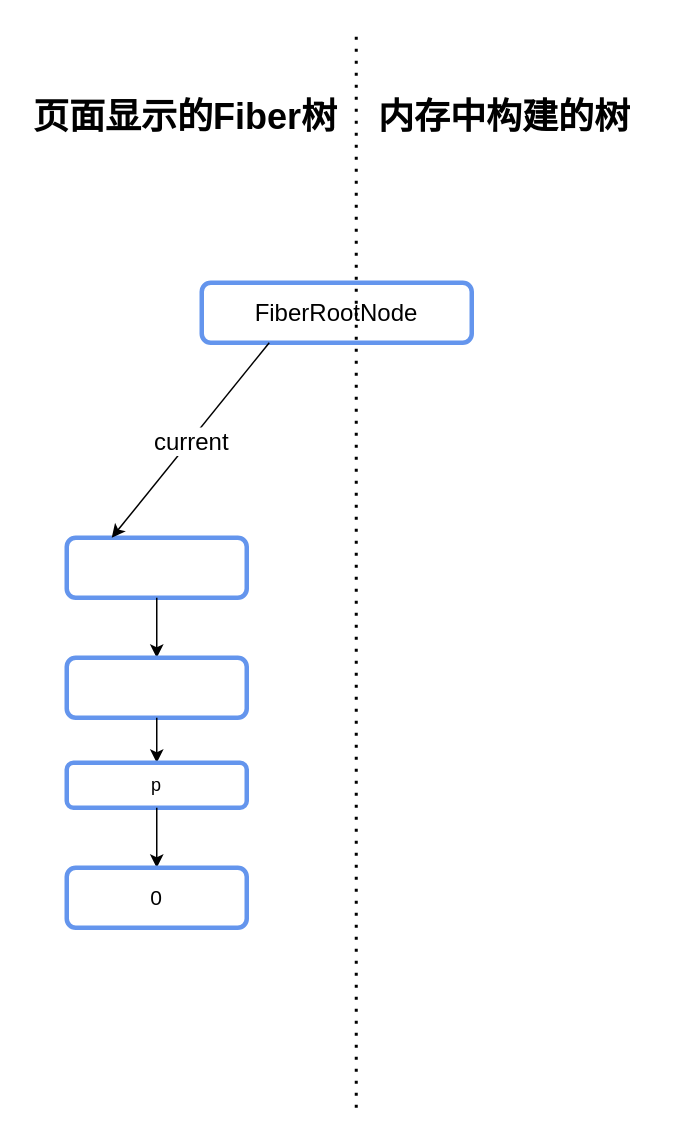
Some shapes in this 681 by 1136 pixel diagram are drawn without their labels. The box of each missing label's shape, as (x1, y1, x2, y2) in pixels:
App: (64, 655, 248, 719)
rootFiber: (64, 535, 248, 599)
